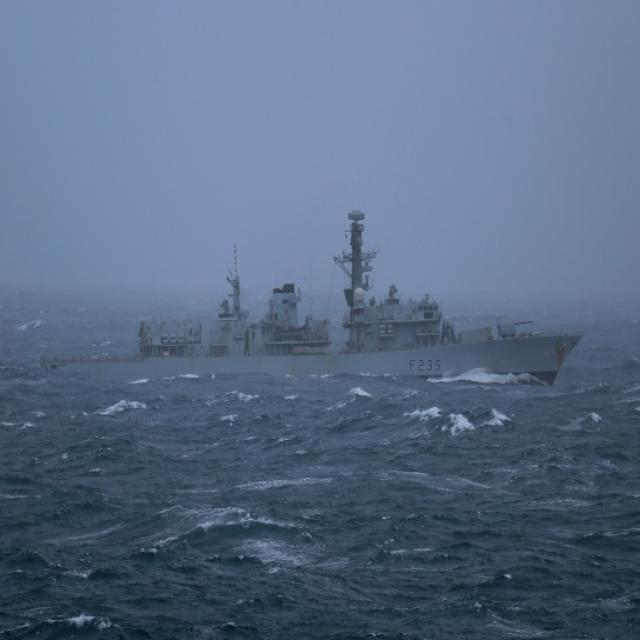Fragata: (37, 199, 586, 395)
